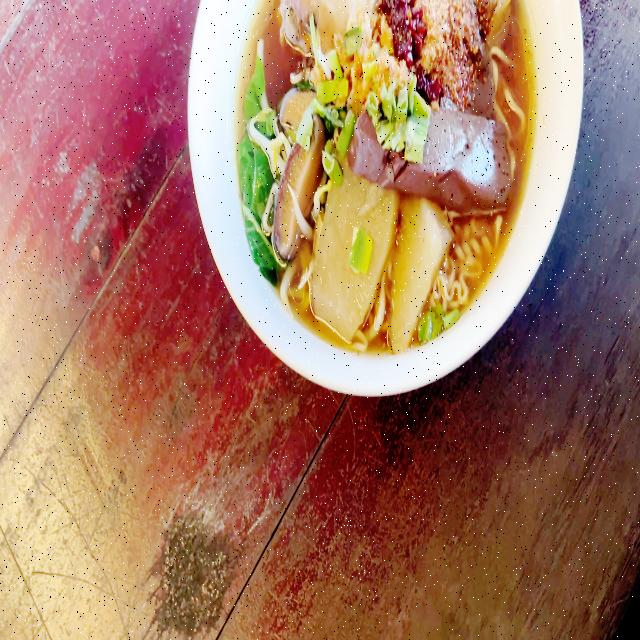boiled_chicken_blood_jelly: (428, 107, 511, 205), (351, 114, 381, 180), (472, 35, 494, 120)
chicken_drumstick: (278, 0, 514, 54)
daikon_radish: (323, 199, 444, 329)
noodle: (245, 0, 524, 312)
